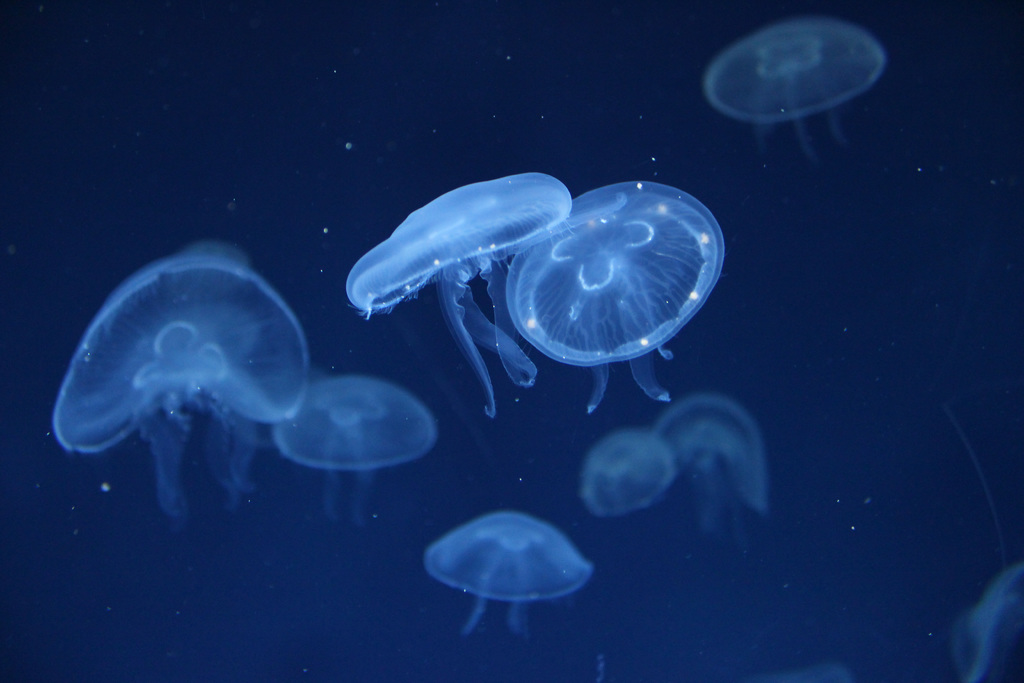Jellyfish: (53, 253, 309, 520), (343, 169, 572, 417), (508, 179, 728, 419), (702, 19, 886, 159), (267, 370, 432, 520), (418, 506, 590, 641), (657, 398, 767, 540), (582, 435, 675, 518)
